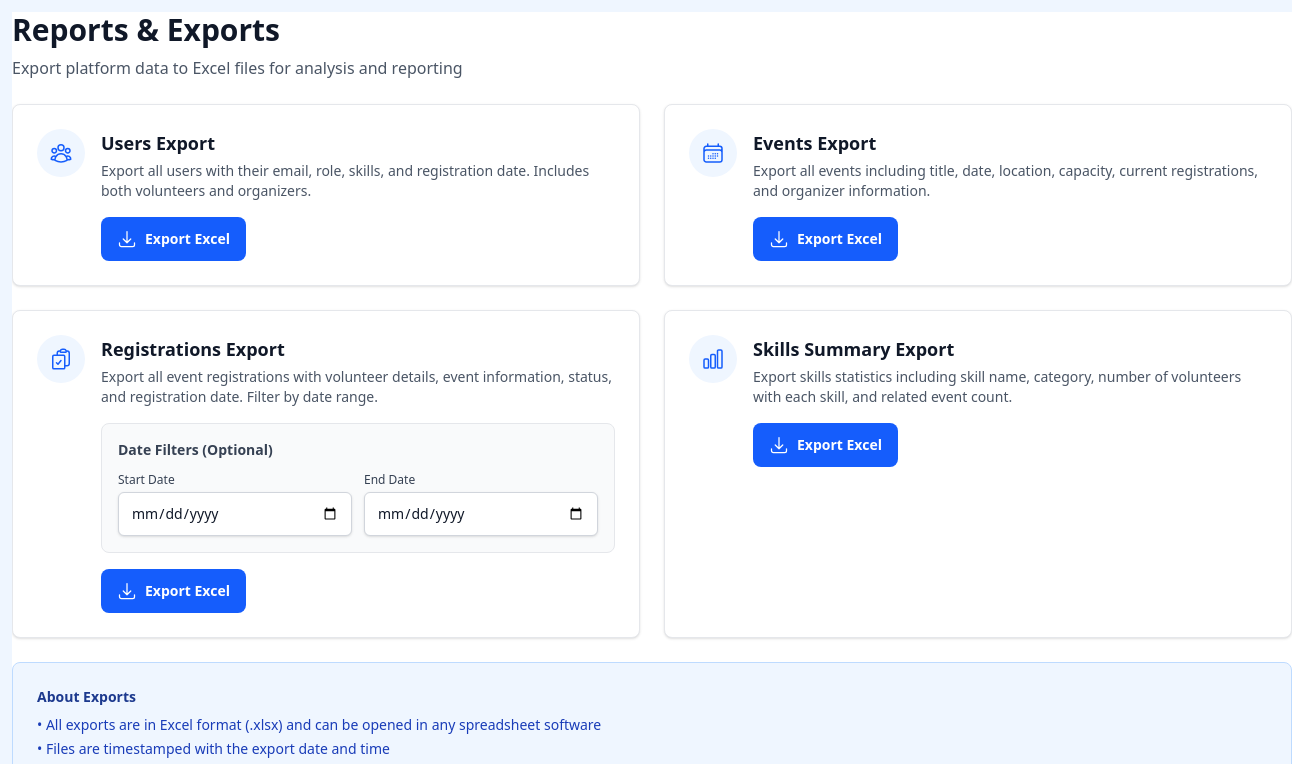
Test: AdminReportsPage › shows clear filters button when dates are set
The image size is (1292, 764).
Type "2026-01-01" into the date field labelled "Start Date".
click(235, 514); type("2026-01-01")  # box [118, 492, 352, 536]
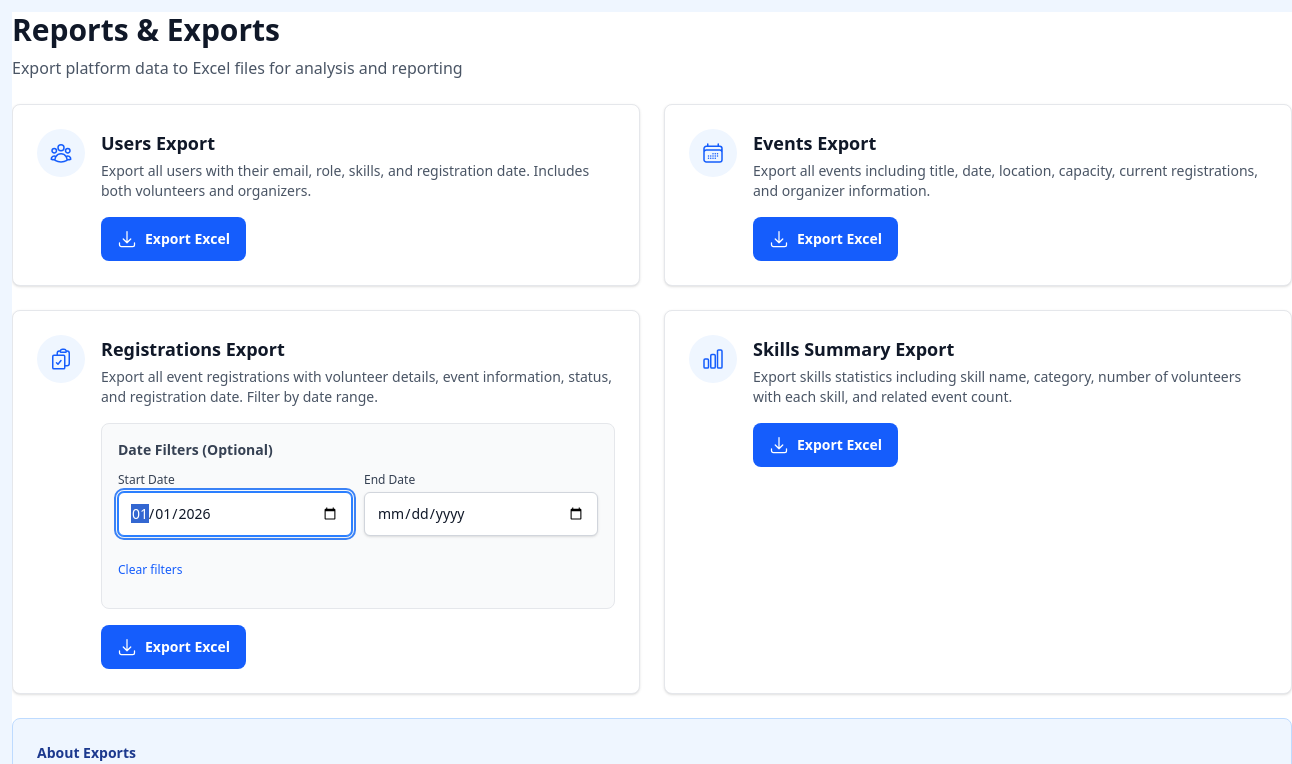
Check: the button "Clear filters" is shown, box [118, 548, 182, 592]
